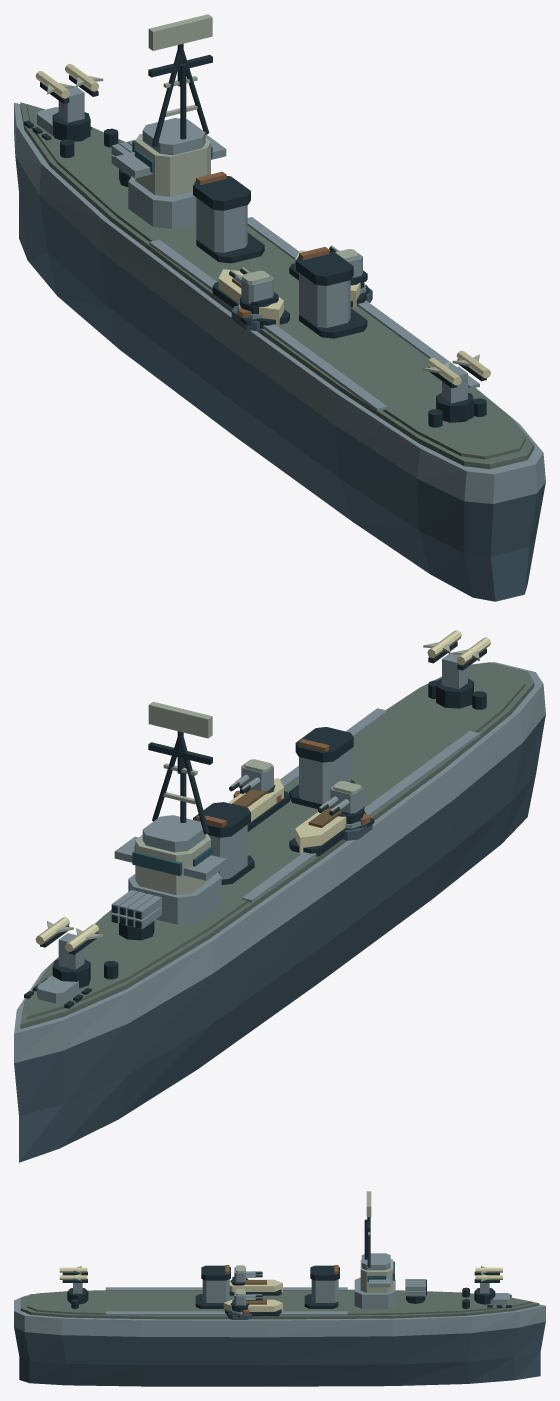
File: historic-leahy.glb
The picture shows the model from 3 angles, top to bottom: view 1: azimuth 30°, elevation 25°; view 2: azimuth 150°, elevation 25°; view 3: azimuth 270°, elevation 25°; orthographic projection. The views are drawn at different scales.
Visible parts, largest first — view 1: historic-leahy-historic-leahy-geometry, historic-leahy-part_bridge.111-geometry, historic-leahy-historic_funnel_1.058-geometry, historic-leahy-historic_funnel_0.108-geometry, historic-leahy-naval_launcher_0.005-geometry, historic-leahy-naval_launcher_1.003-geometry, historic-leahy-turret_aa_aa-port.113-geometry; view 2: historic-leahy-historic-leahy-geometry, historic-leahy-part_bridge.111-geometry, historic-leahy-historic_funnel_1.058-geometry, historic-leahy-historic_funnel_0.108-geometry, historic-leahy-naval_launcher_1.003-geometry, historic-leahy-naval_launcher_0.005-geometry, historic-leahy-naval_launcher_2.002-geometry, historic-leahy-turret_aa_aa-port.113-geometry, historic-leahy-turret_aa_aa-starboard.109-geometry; view 3: historic-leahy-historic-leahy-geometry, historic-leahy-part_bridge.111-geometry, historic-leahy-historic_funnel_0.108-geometry, historic-leahy-historic_funnel_1.058-geometry, historic-leahy-naval_launcher_0.005-geometry, historic-leahy-naval_launcher_1.003-geometry, historic-leahy-naval_launcher_2.002-geometry, historic-leahy-turret_aa_aa-starboard.109-geometry, historic-leahy-turret_aa_aa-port.113-geometry.
Part boxes in pixels (x1,y1,x2,y2): historic-leahy-historic-leahy-geometry: [14, 102, 545, 601]; historic-leahy-part_bridge.111-geometry: [114, 14, 226, 228]; historic-leahy-historic_funnel_1.058-geometry: [295, 247, 367, 338]; historic-leahy-historic_funnel_0.108-geometry: [193, 171, 264, 263]; historic-leahy-naval_launcher_0.005-geometry: [35, 63, 103, 141]; historic-leahy-naval_launcher_1.003-geometry: [423, 350, 490, 422]; historic-leahy-turret_aa_aa-port.113-geometry: [229, 267, 278, 314]; historic-leahy-historic-leahy-geometry: [14, 662, 545, 1162]; historic-leahy-part_bridge.111-geometry: [114, 701, 226, 924]; historic-leahy-historic_funnel_1.058-geometry: [289, 727, 355, 808]; historic-leahy-historic_funnel_0.108-geometry: [193, 802, 254, 884]; historic-leahy-naval_launcher_1.003-geometry: [423, 630, 490, 708]; historic-leahy-naval_launcher_0.005-geometry: [35, 917, 103, 988]; historic-leahy-naval_launcher_2.002-geometry: [111, 890, 161, 940]; historic-leahy-turret_aa_aa-port.113-geometry: [318, 781, 364, 823]; historic-leahy-turret_aa_aa-starboard.109-geometry: [229, 759, 275, 793]; historic-leahy-historic-leahy-geometry: [14, 1279, 545, 1386]; historic-leahy-part_bridge.111-geometry: [354, 1191, 395, 1308]; historic-leahy-historic_funnel_0.108-geometry: [304, 1265, 339, 1308]; historic-leahy-historic_funnel_1.058-geometry: [195, 1265, 230, 1308]; historic-leahy-naval_launcher_0.005-geometry: [474, 1266, 502, 1304]; historic-leahy-naval_launcher_1.003-geometry: [59, 1266, 88, 1304]; historic-leahy-naval_launcher_2.002-geometry: [405, 1279, 426, 1303]; historic-leahy-turret_aa_aa-starboard.109-geometry: [230, 1288, 262, 1312]; historic-leahy-turret_aa_aa-port.113-geometry: [230, 1265, 262, 1285].
Size of the model in its own units: 0.6408 by 1.59 by 4.32.
